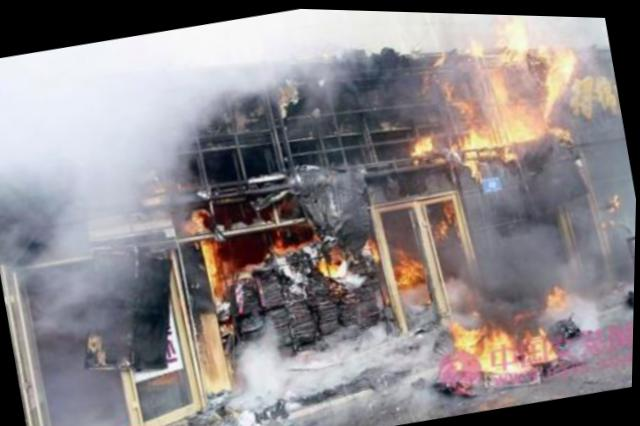fire: (475, 319, 526, 374), (491, 70, 521, 139), (388, 238, 423, 282), (540, 45, 577, 85), (511, 96, 545, 138), (200, 237, 223, 299), (498, 12, 530, 51), (522, 325, 556, 360), (452, 315, 481, 352), (458, 125, 499, 148), (177, 206, 208, 232), (406, 131, 436, 153), (438, 194, 456, 219), (430, 211, 448, 236), (319, 252, 339, 271), (272, 238, 297, 250)
smoke: (0, 28, 187, 219), (446, 145, 634, 313), (163, 4, 369, 123), (14, 201, 129, 339), (34, 331, 131, 423), (234, 334, 296, 400)
